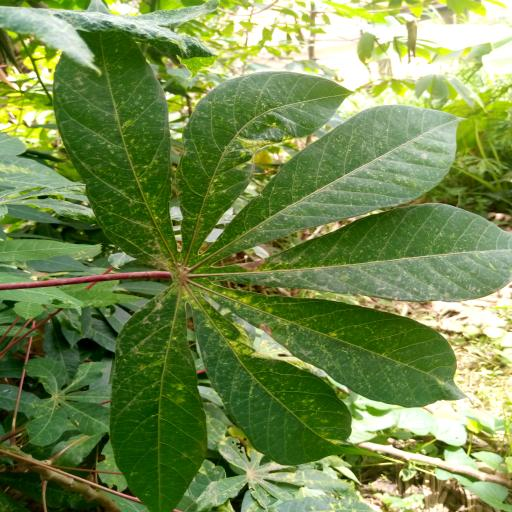Cassava_Mosaic: (58, 29, 512, 512)
